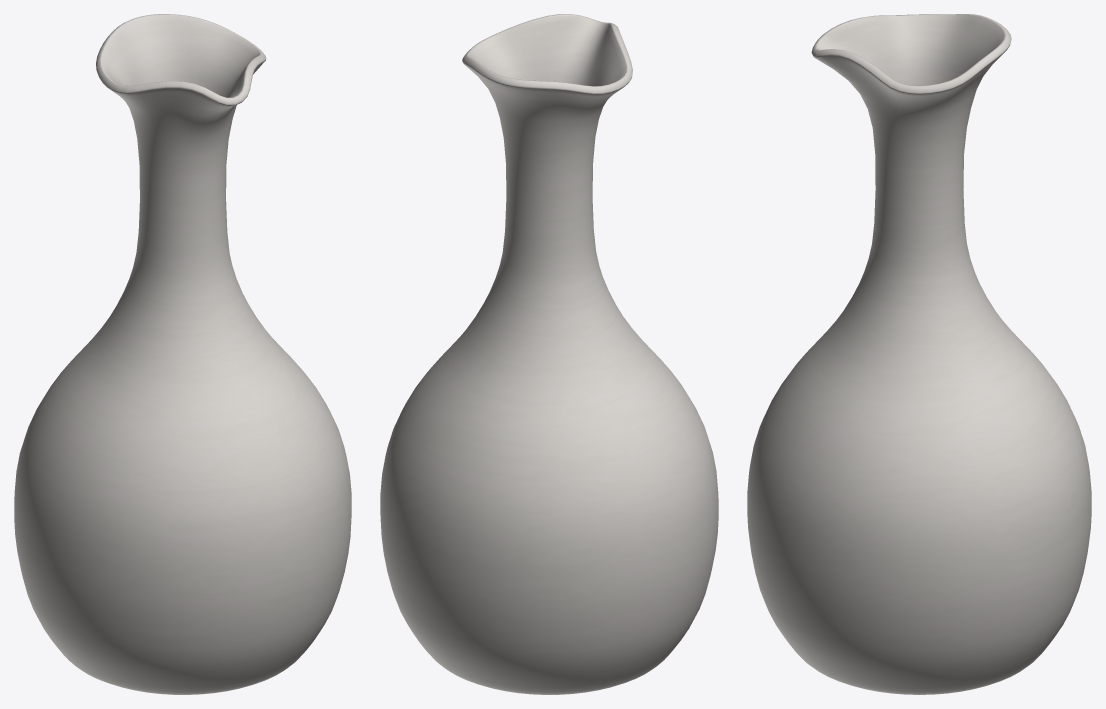
The model's file is ceramic_vase_01.gltf.
3 renders of one model, left to right at view 1: azimuth 30°, elevation 25°; view 2: azimuth 150°, elevation 25°; view 3: azimuth 270°, elevation 25°, orthographic. The views are drawn at different scales.
Visible parts, largest first — view 1: ceramic_vase_01; view 2: ceramic_vase_01; view 3: ceramic_vase_01.
Boxes of the visible parts, x1,y1,x2,y2 form: ceramic_vase_01: (14,14,351,694); ceramic_vase_01: (380,14,718,694); ceramic_vase_01: (747,14,1091,694).
Bounding box in the file's own units: 0.2036 × 0.4003 × 0.2036.
1 material, 1 textured.
